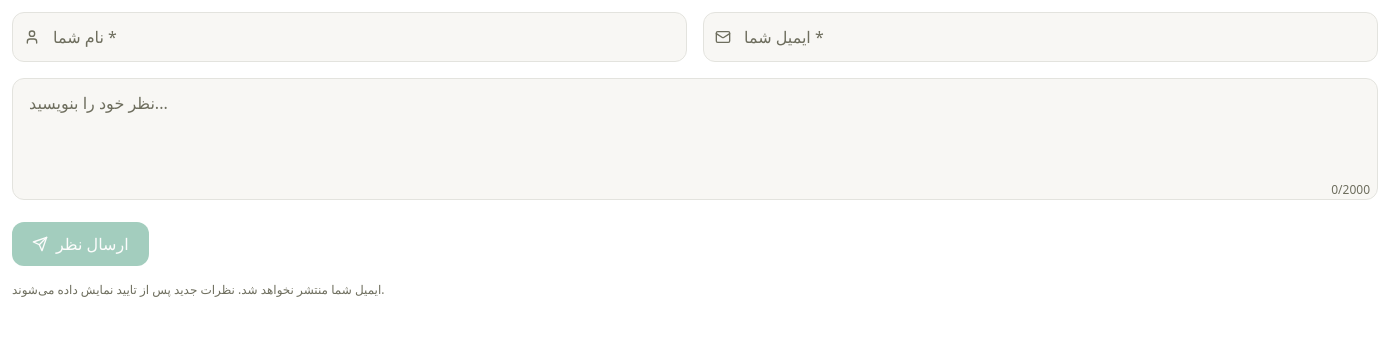
CommentForm › Persian locale › shows Persian error messages
This screenshot has width=1390, height=350.
Type "تست" into the text box with placeholder "نظر خود را بنویسید...".
click(695, 139); type("تست")  # box [12, 78, 1378, 200]
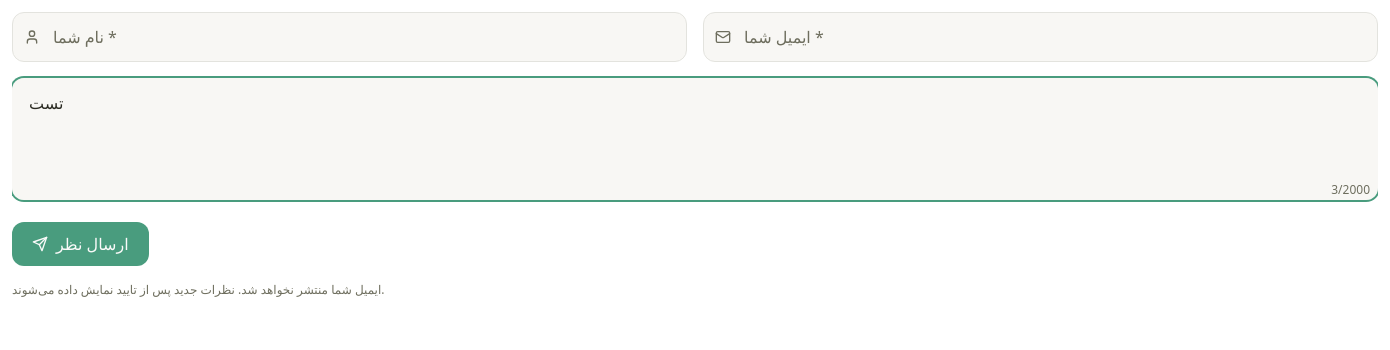
Click the button "ارسال نظر".
click(80, 244)  # box [12, 222, 149, 266]
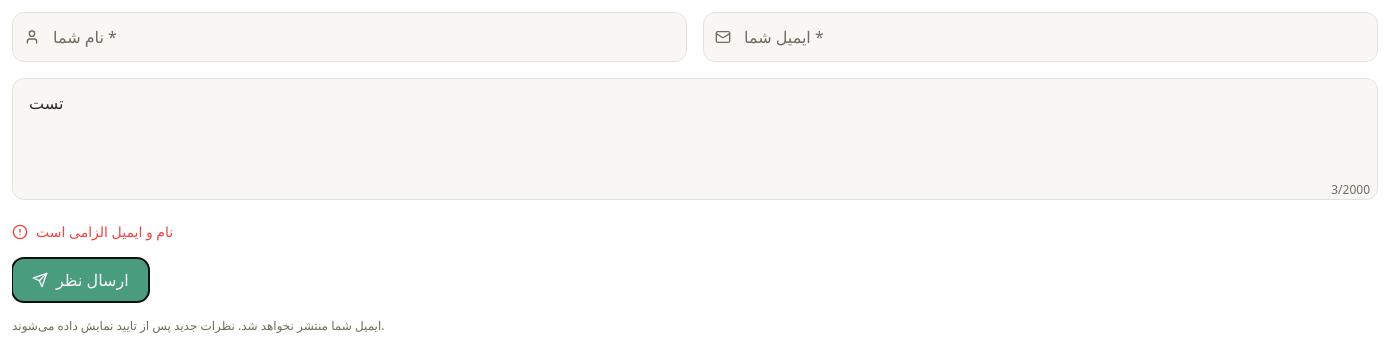
Now the text "نام و ایمیل الزامی است" is shown, box [12, 222, 173, 241]
